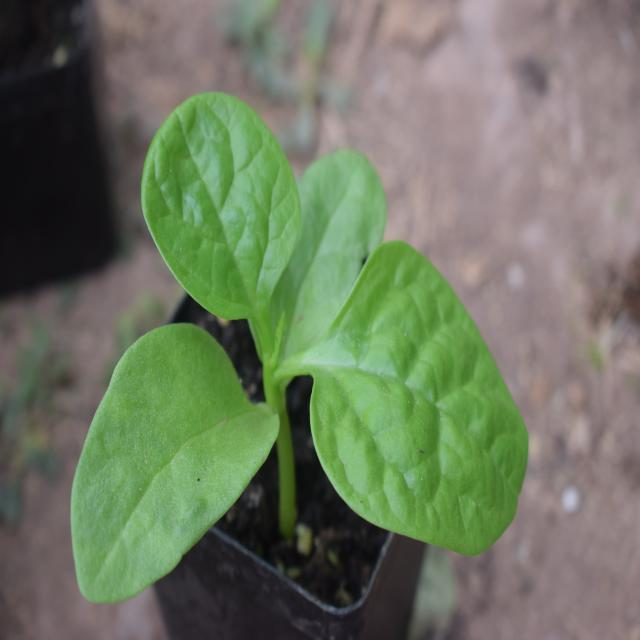Ceylon spinach: (72, 99, 536, 606)
